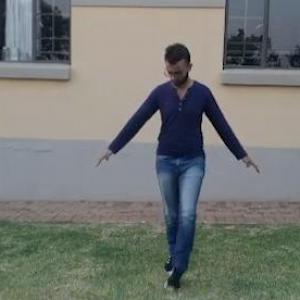land: (86, 22, 253, 277)
